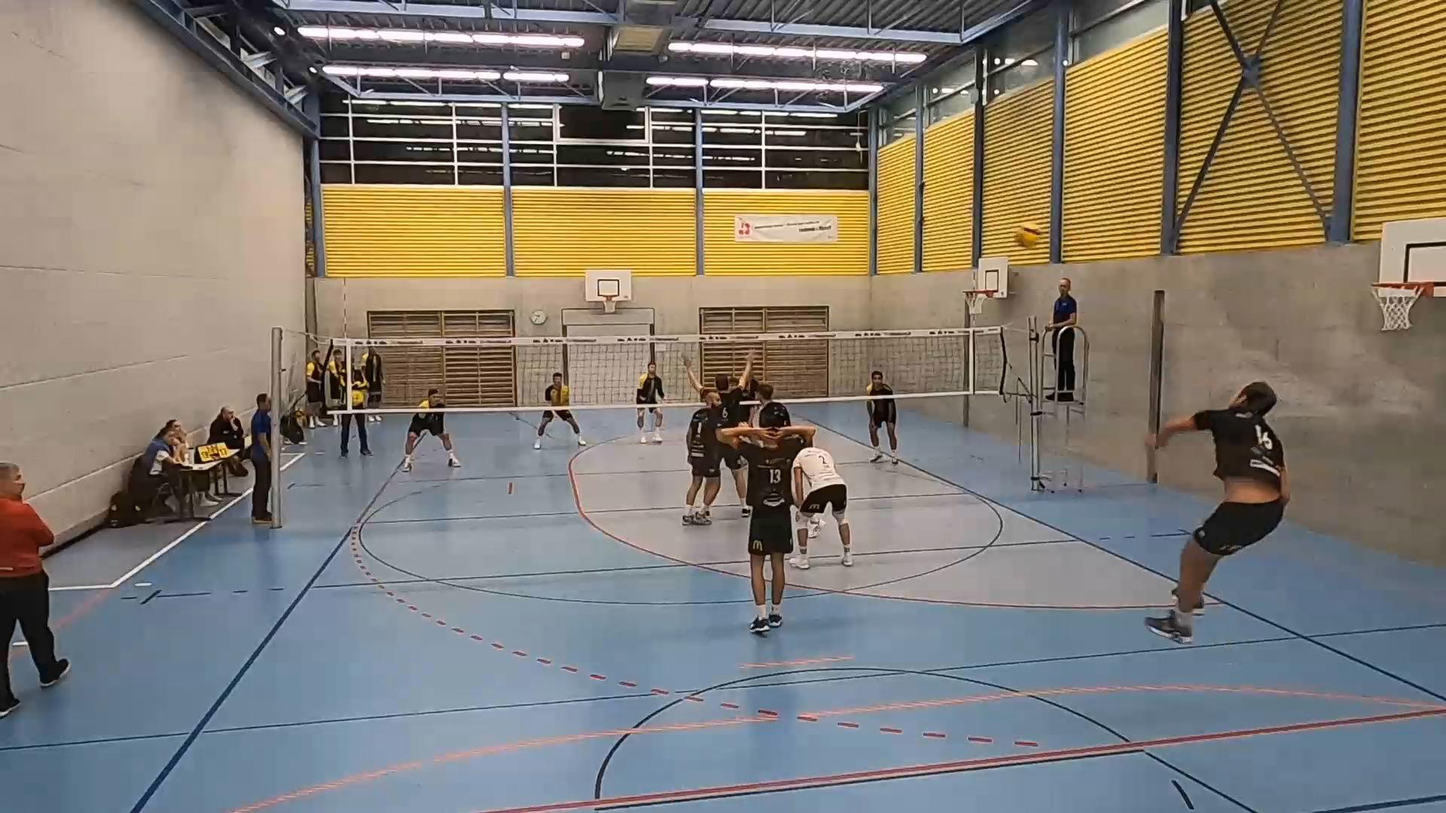battuta: (1150, 345, 1300, 651)
